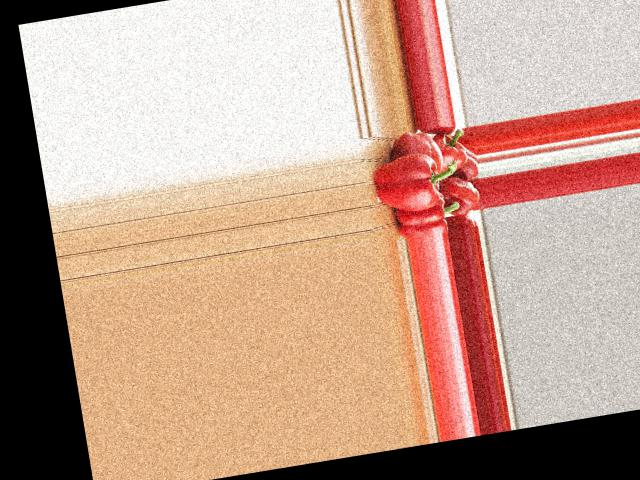bell_pepper: (429, 126, 470, 173)
